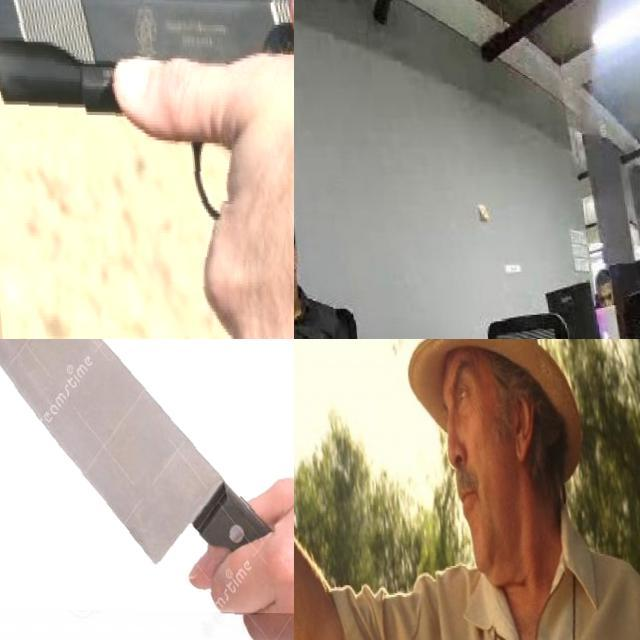-: (0, 339, 294, 612)
gun-knife-thesis - v11 Yolov5 augmented: (0, 0, 294, 339), (294, 339, 369, 506)
